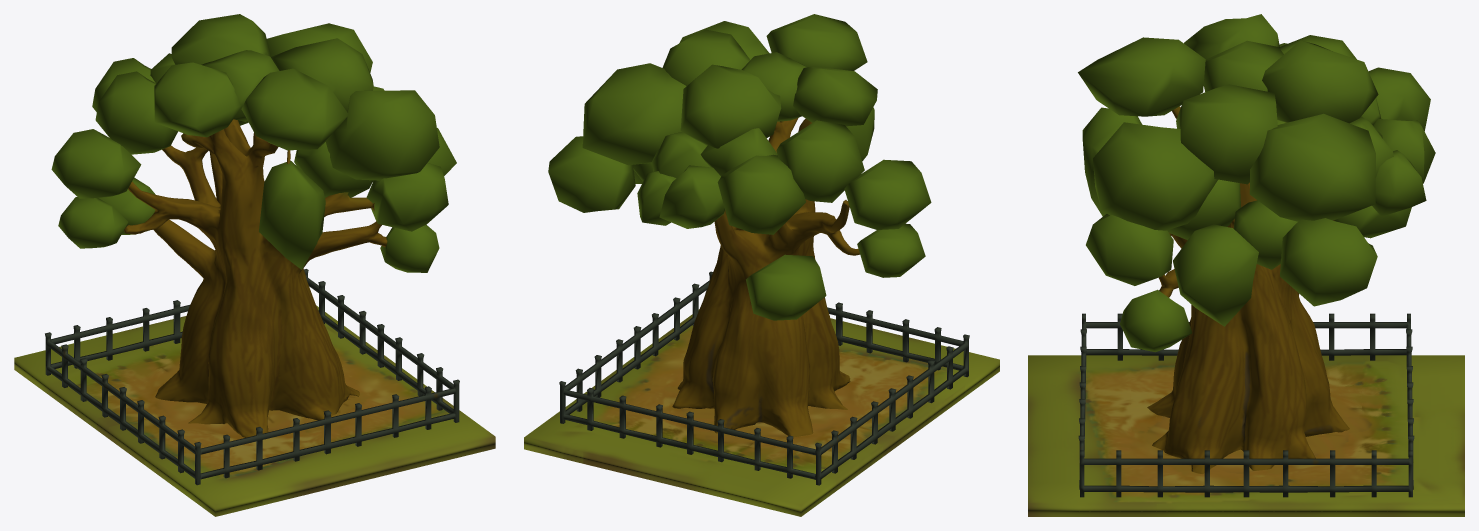
The model's file is baobaceninha.glb.
3 renders of one model, left to right at view 1: azimuth 30°, elevation 25°; view 2: azimuth 150°, elevation 25°; view 3: azimuth 270°, elevation 25°, orthographic. The views are drawn at different scales.
Visible parts, largest first — view 1: baobá_low; view 2: baobá_low; view 3: baobá_low.
Boxes of the visible parts, x1,y1,x2,y2 form: baobá_low: [14, 14, 495, 516]; baobá_low: [524, 14, 999, 516]; baobá_low: [1028, 14, 1464, 516].
Bounding box in the file's own units: 6.85 × 6.64 × 6.67.
Materials: 1 (1 with a texture image).
